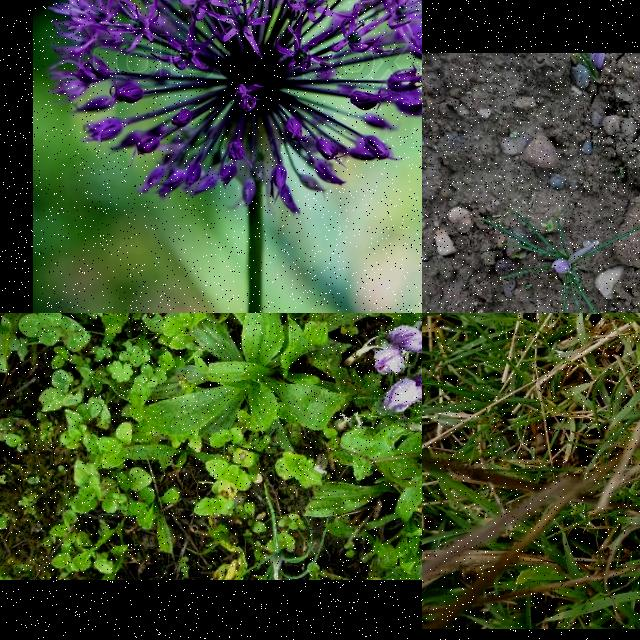flower: (374, 344, 406, 376), (386, 326, 422, 354), (553, 258, 571, 276)
overlap: (384, 364, 422, 411)
